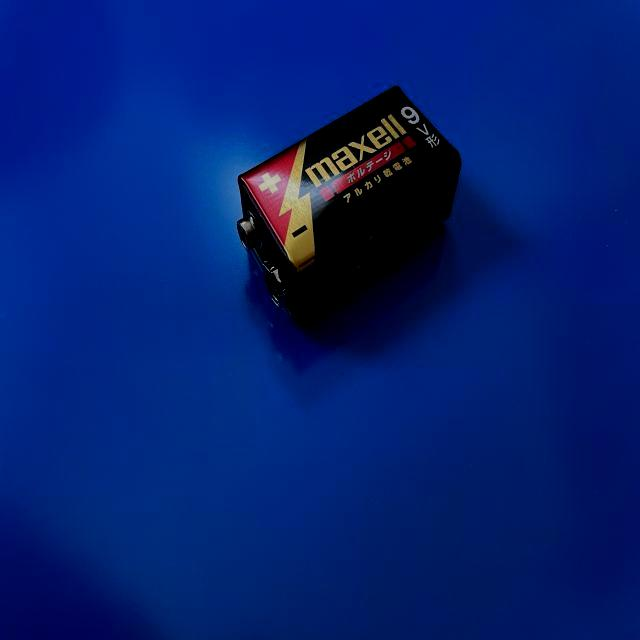9V: (235, 83, 464, 328)
